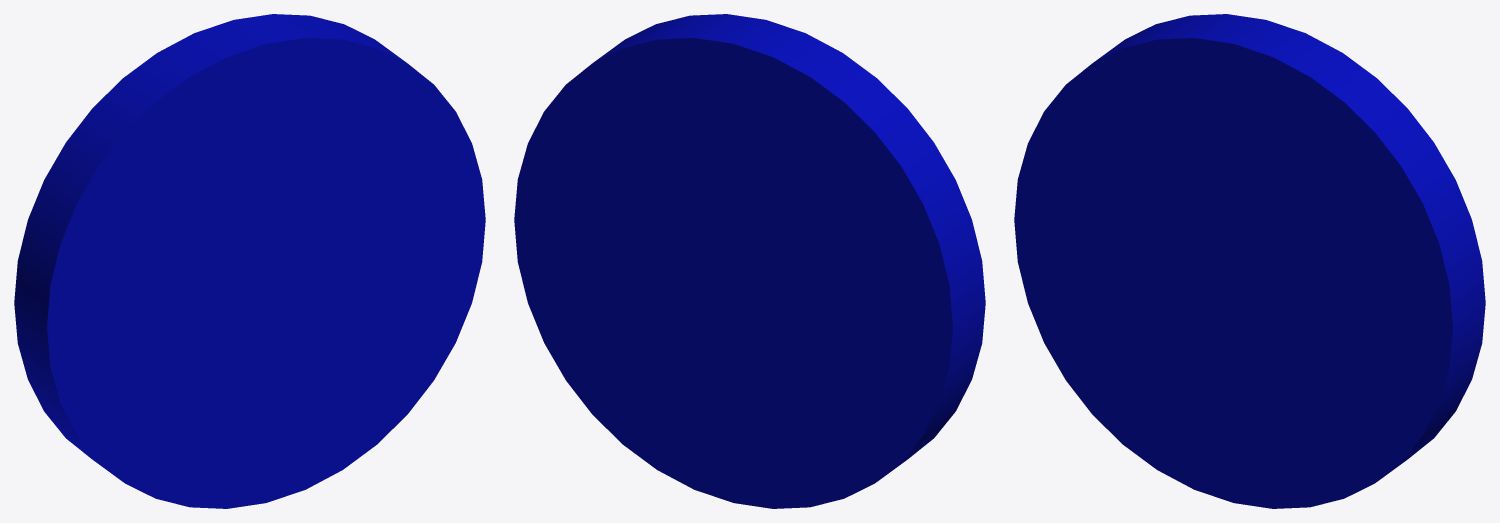
The model's file is Joystick_element_13.FBX.
The picture shows the model from 3 angles, left to right: view 1: azimuth 30°, elevation 25°; view 2: azimuth 150°, elevation 25°; view 3: azimuth 330°, elevation 25°; orthographic projection.
Visible parts, largest first — view 1: Joystick_element_13; view 2: Joystick_element_13; view 3: Joystick_element_13.
Part boxes in pixels (bbox=[...]): Joystick_element_13: bbox=[14, 14, 485, 508]; Joystick_element_13: bbox=[514, 14, 985, 508]; Joystick_element_13: bbox=[1014, 14, 1485, 508].
Size of the model in its own units: 23.24 by 23.24 by 3.
